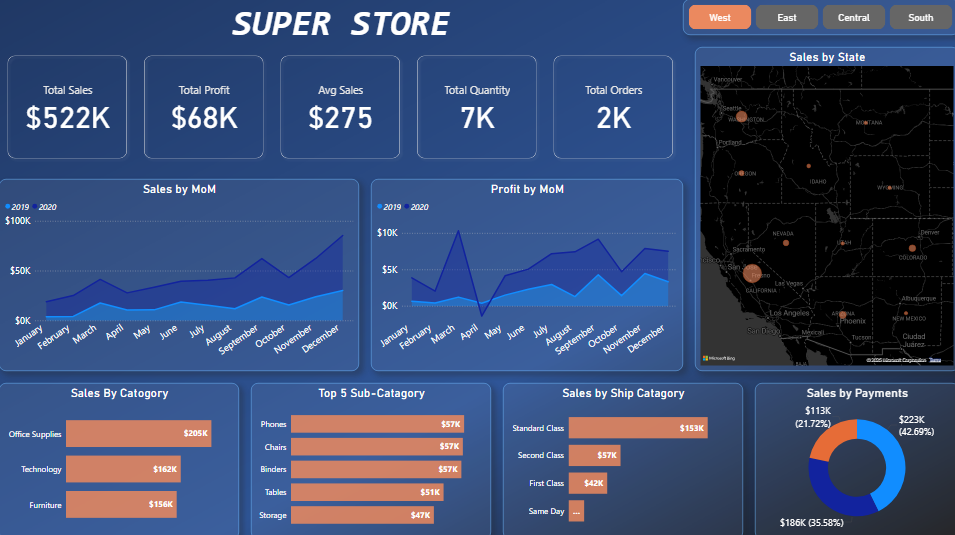

Layout of this report page (visuals, bound fields, positions):
{"tool":"powerbi","page":{"name":"Page 1","canvas":[1920,1080],"ordinal":0},"visuals":[{"type":"clusteredBarChart","title":"Sales By Catogory","fields":{"Category":["SuperStore_Sales_Dataset.Category"],"Y":["_Measures.Total Sales"]},"box":[0,768,480,312],"z":0},{"type":"clusteredBarChart","title":"Top 5 Sub-Catagory","fields":{"Y":["_Measures.Total Sales"],"Category":["SuperStore_Sales_Dataset.Sub-Category"]},"box":[504,768,480,312],"z":1000},{"type":"clusteredBarChart","title":"Sales by Ship Catagory","fields":{"Y":["_Measures.Total Sales"],"Category":["SuperStore_Sales_Dataset.Ship Mode"]},"box":[1008,768,480,312],"z":2000},{"type":"stackedAreaChart","title":"Profit by MoM","fields":{"Category":["SuperStore_Sales_Dataset.Order Date.Variation.Date Hierarchy.Month"],"Series":["SuperStore_Sales_Dataset.Order Date.Variation.Date Hierarchy.Year"],"Y":["_Measures.Total Profit"]},"box":[744,360,624,384],"z":4000},{"type":"map","title":"Sales by State","fields":{"Size":["_Measures.Total Sales"],"Category":["SuperStore_Sales_Dataset.State"]},"box":[1392,96,528,648],"z":4001},{"type":"stackedAreaChart","title":"Sales by MoM","fields":{"Y":["_Measures.Total Sales"],"Category":["SuperStore_Sales_Dataset.Order Date.Variation.Date Hierarchy.Month"],"Series":["SuperStore_Sales_Dataset.Order Date.Variation.Date Hierarchy.Year"]},"box":[0,360,720,384],"z":4002},{"type":"donutChart","title":"Sales by Payments","fields":{"Y":["_Measures.Total Sales"],"Category":["SuperStore_Sales_Dataset.Payment Mode"]},"box":[1512,768,408,312],"z":4003},{"type":"advancedSlicerVisual","title":"Sales by Payments","fields":{"Values":["SuperStore_Sales_Dataset.Region"]},"box":[1368,0,552,72],"z":4004},{"type":"textbox","box":[0,0,1368,96],"z":4005},{"type":"cardVisual","title":"Sales by MoM","fields":{"Data":["_Measures.Total Sales","_Measures.Total Profit","_Measures.Avg Sales","_Measures.Total Quantity","_Measures.Total Orders"]},"box":[0,96,1368,240],"z":4006}]}

Visuals, with their boxes in screenshot pixels (x1, y1, x2, y2), scaled from the page's 1920x1080 canvas onto the 955x535 screenshot:
"Sales By Catogory" clusteredBarChart: pyautogui.locateOnScreen(0, 380, 239, 534)
"Top 5 Sub-Catagory" clusteredBarChart: pyautogui.locateOnScreen(251, 380, 489, 534)
"Sales by Ship Catagory" clusteredBarChart: pyautogui.locateOnScreen(501, 380, 740, 534)
"Profit by MoM" stackedAreaChart: pyautogui.locateOnScreen(370, 178, 680, 369)
"Sales by State" map: pyautogui.locateOnScreen(692, 48, 954, 369)
"Sales by MoM" stackedAreaChart: pyautogui.locateOnScreen(0, 178, 358, 369)
"Sales by Payments" donutChart: pyautogui.locateOnScreen(752, 380, 954, 534)
"Sales by Payments" advancedSlicerVisual: pyautogui.locateOnScreen(680, 0, 954, 36)
textbox: pyautogui.locateOnScreen(0, 0, 680, 48)
"Sales by MoM" cardVisual: pyautogui.locateOnScreen(0, 48, 680, 166)
